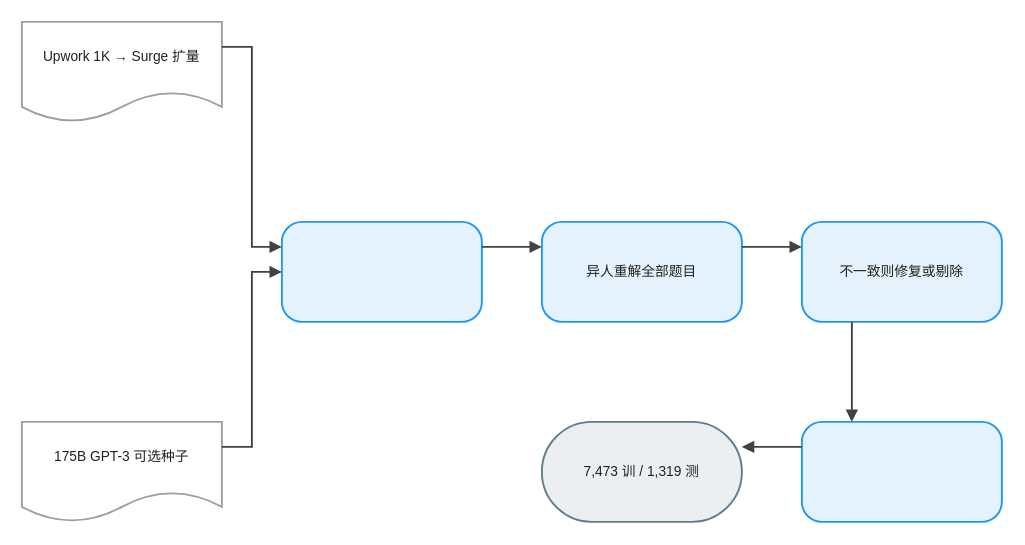
Image size: 1025x545. Some labels were removed from this diagram. The shapes that lost their labels are listed below. From the top down, each one's centre as x and y in pixels, then its label:
At (381,271): "人工编题 + 多样性反馈".
At (901,471): "小样本二次一致性检查".
